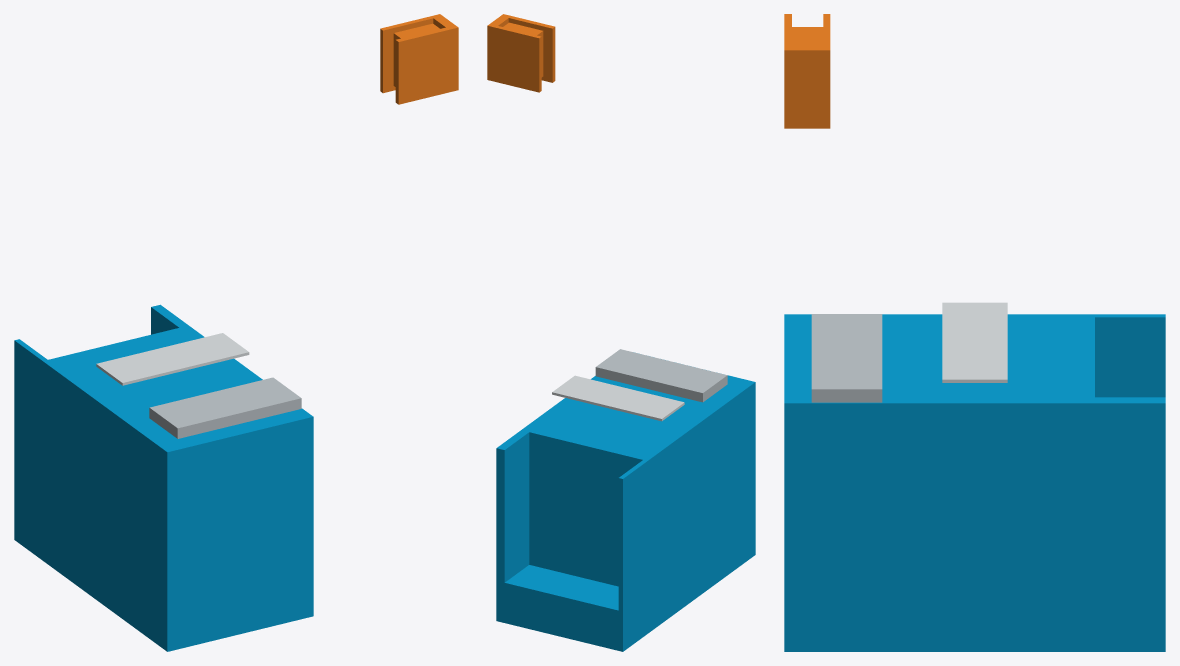
File: tinker.obj
3 views of the same model, side by side, from view 1: azimuth 30°, elevation 25°; view 2: azimuth 150°, elevation 25°; view 3: azimuth 270°, elevation 25° (orthographic). The views are drawn at different scales.
Visible parts, largest first — view 1: group_0_40919, group_0_16089887, group_0_12568524, group_0_14541540; view 2: group_0_40919, group_0_16089887, group_0_12568524, group_0_14541540; view 3: group_0_40919, group_0_12568524, group_0_14541540, group_0_16089887.
Part boxes in pixels (left/top/right/bottom): group_0_40919: left=14, top=304, right=313, bottom=651; group_0_16089887: left=380, top=14, right=458, bottom=104; group_0_12568524: left=149, top=377, right=301, bottom=438; group_0_14541540: left=96, top=333, right=249, bottom=385; group_0_40919: left=496, top=375, right=755, bottom=651; group_0_16089887: left=487, top=14, right=555, bottom=92; group_0_12568524: left=595, top=349, right=727, bottom=402; group_0_14541540: left=552, top=375, right=684, bottom=421; group_0_40919: left=784, top=314, right=1165, bottom=651; group_0_12568524: left=811, top=314, right=882, bottom=402; group_0_14541540: left=942, top=302, right=1007, bottom=382; group_0_16089887: left=784, top=14, right=830, bottom=128.
Bounding box in the file's own units: 118 × 215 × 108.
